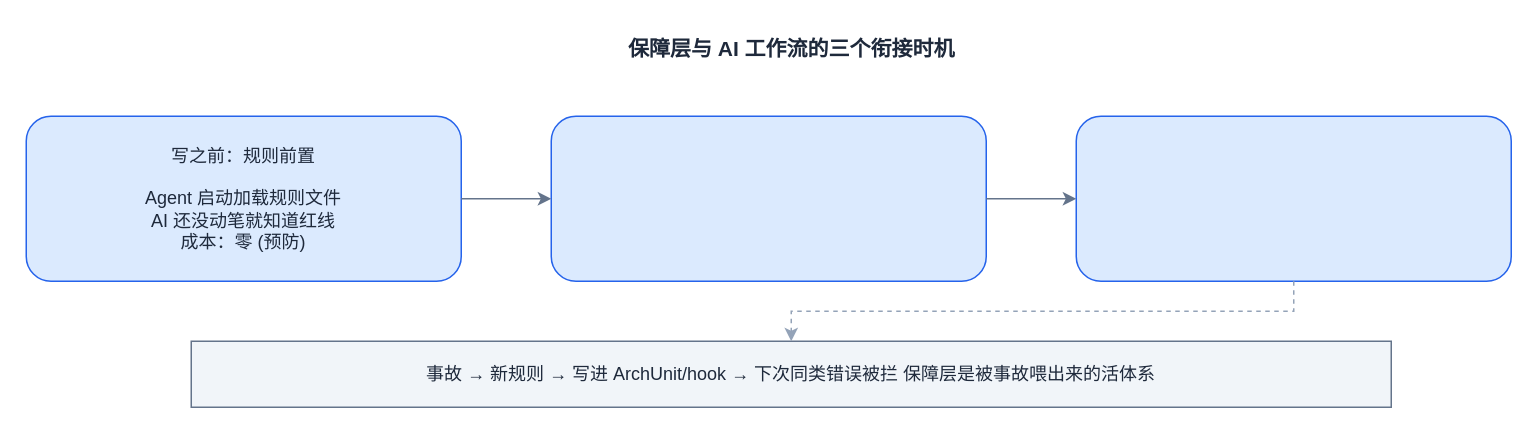
Some shapes in this 1538 by 434 pixel diagram are drawn without their labels. Each missing label, with the centre of its shape:
"写之中：实时校验 IDE hook 跑轻量检查 违规当场提示趁热纠正 成本：秒级 (低成本)" belongs at (768,198).
"提交前：全量门禁 契约闸 + 测试 + ArchUnit 任何一道红打回重改 成本：分钟级 (最可靠)" belongs at (1293,198).
